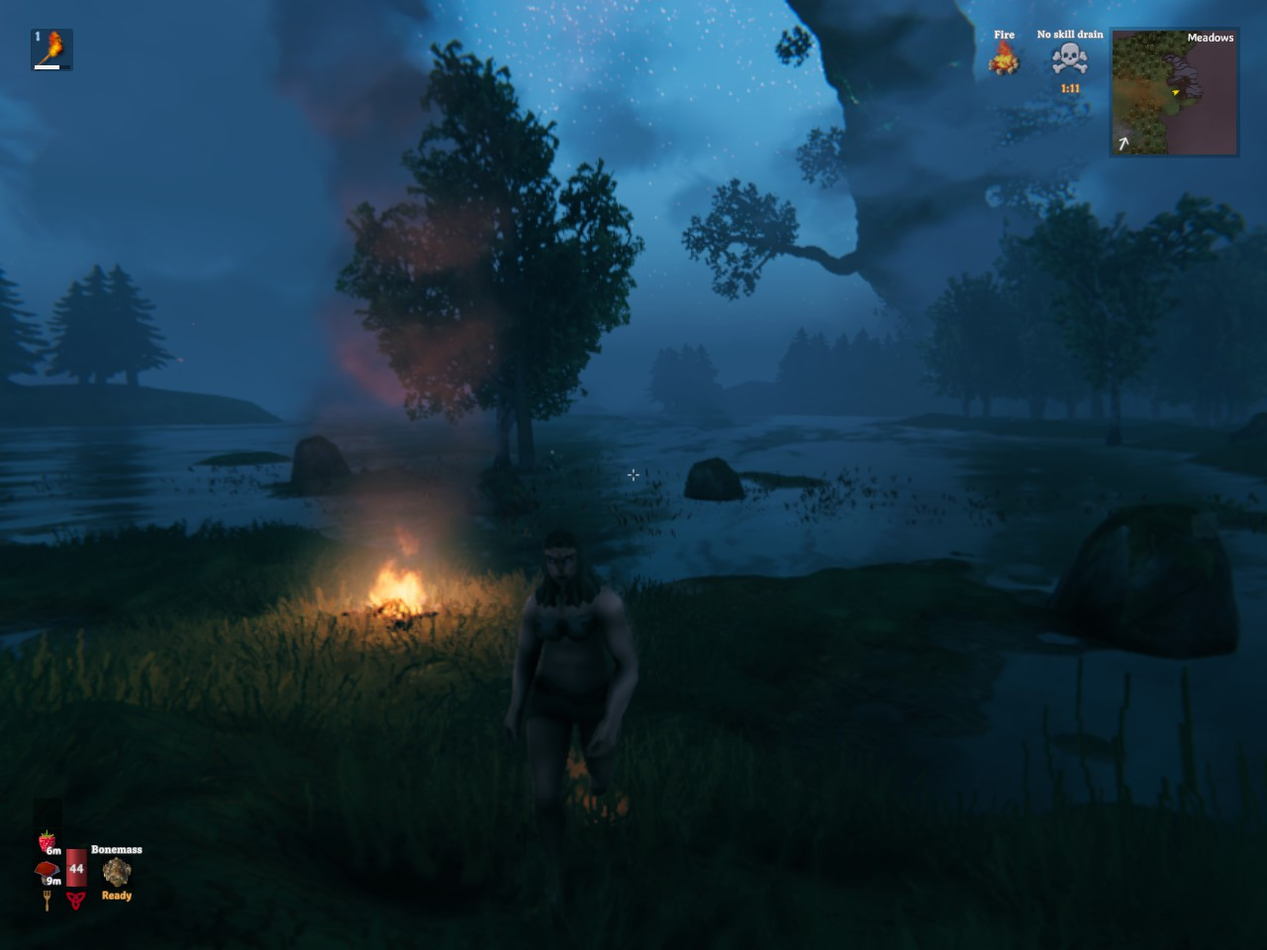Fire: (330, 543, 457, 647)
